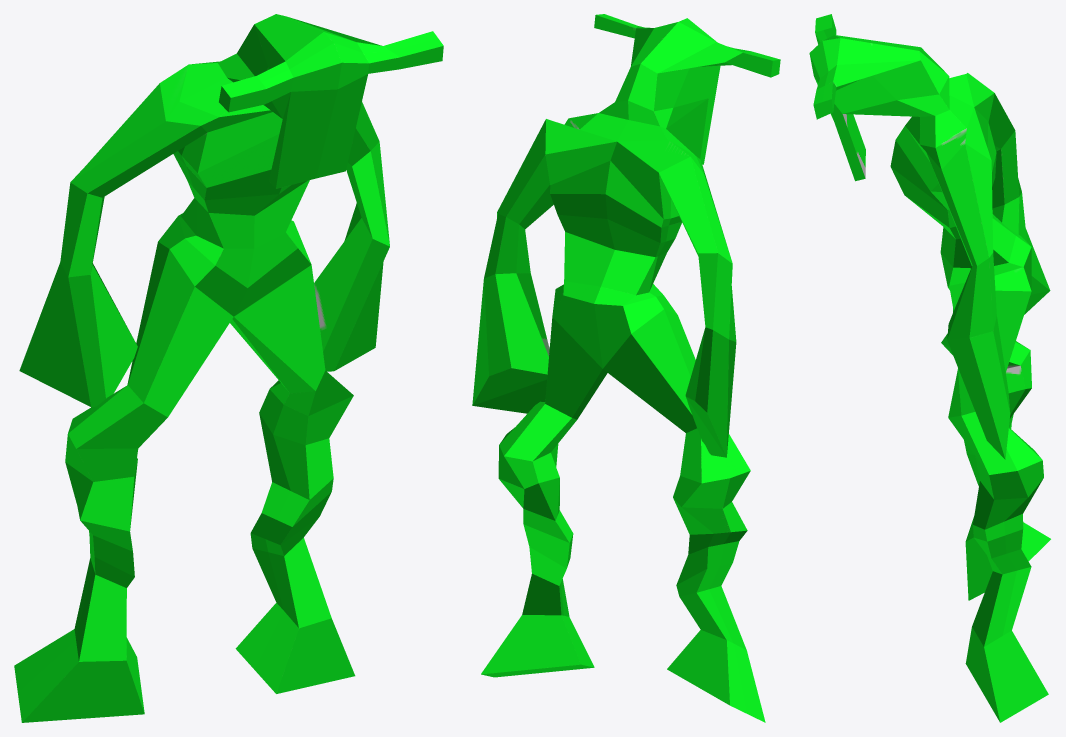
The model's file is monstruo2_prueba_verde267.obj.
The picture shows the model from 3 angles, left to right: view 1: azimuth 30°, elevation 25°; view 2: azimuth 150°, elevation 25°; view 3: azimuth 270°, elevation 25°; orthographic projection. The views are drawn at different scales.
Parts seen in each view (by area): view 1: monstruo; view 2: monstruo; view 3: monstruo.
Part boxes in pixels (x1,y1,x2,y2): monstruo: (14, 14, 443, 722); monstruo: (472, 14, 780, 722); monstruo: (809, 14, 1050, 722).
Bounding box in the file's own units: 2.29 × 4.63 × 1.61.
